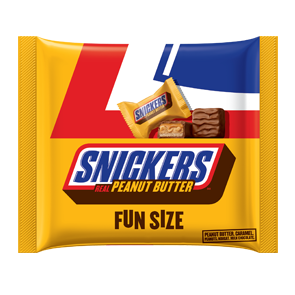snickers: (72, 149, 214, 181), (134, 93, 166, 118)
